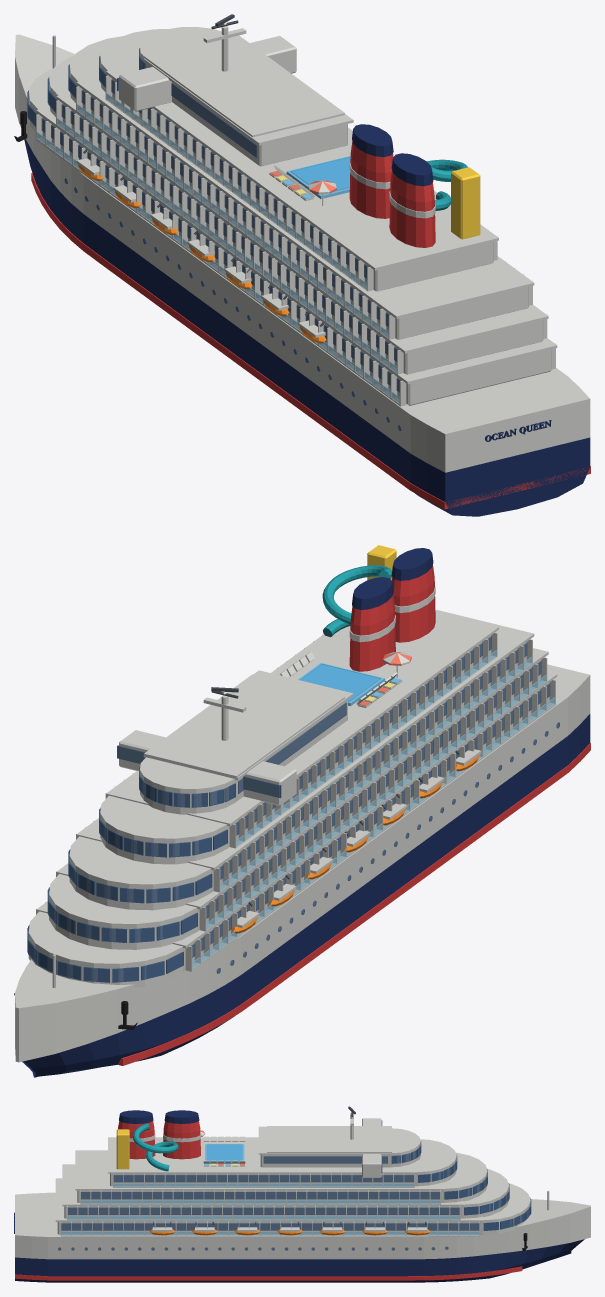
The model's file is CruiseShip.fbx.
3 renders of one model, top to bottom at view 1: azimuth 30°, elevation 25°; view 2: azimuth 150°, elevation 25°; view 3: azimuth 270°, elevation 25°, orthographic. The views are drawn at different scales.
Parts seen in each view (by area): view 1: CruiseShip_White, CruiseShip_Navy, CruiseShip_GlassDark, CruiseShip_Red, CruiseShip_Glass, CruiseShip_Yellow, CruiseShip_SkyBlue, CruiseShip_Water, CruiseShip_Orange, CruiseShip_Teal; view 2: CruiseShip_White, CruiseShip_GlassDark, CruiseShip_Navy, CruiseShip_Glass, CruiseShip_Red, CruiseShip_SkyBlue, CruiseShip_Teal, CruiseShip_Water, CruiseShip_Orange; view 3: CruiseShip_White, CruiseShip_GlassDark, CruiseShip_Navy, CruiseShip_Glass, CruiseShip_Red, CruiseShip_Orange, CruiseShip_Teal, CruiseShip_SkyBlue, CruiseShip_Water, CruiseShip_Yellow.
Part boxes in pixels (left/top/right/bottom): CruiseShip_White: left=15, top=26, right=590, bottom=472; CruiseShip_Navy: left=24, top=124, right=590, bottom=516; CruiseShip_GlassDark: left=27, top=48, right=401, bottom=430; CruiseShip_Red: left=31, top=141, right=590, bottom=509; CruiseShip_Glass: left=36, top=93, right=399, bottom=403; CruiseShip_Yellow: left=451, top=167, right=480, bottom=239; CruiseShip_SkyBlue: left=283, top=156, right=350, bottom=199; CruiseShip_Water: left=290, top=156, right=350, bottom=194; CruiseShip_Orange: left=78, top=164, right=326, bottom=343; CruiseShip_Teal: left=427, top=159, right=467, bottom=210; CruiseShip_White: left=15, top=586, right=590, bottom=1062; CruiseShip_GlassDark: left=27, top=636, right=559, bottom=982; CruiseShip_Navy: left=22, top=548, right=590, bottom=1077; CruiseShip_Glass: left=192, top=650, right=555, bottom=969; CruiseShip_Red: left=118, top=565, right=590, bottom=1065; CruiseShip_SkyBlue: left=298, top=663, right=400, bottom=706; CruiseShip_Teal: left=322, top=565, right=391, bottom=637; CruiseShip_Water: left=299, top=664, right=380, bottom=701; CruiseShip_Orange: left=231, top=754, right=479, bottom=933; CruiseShip_White: left=15, top=1112, right=590, bottom=1259; CruiseShip_GlassDark: left=58, top=1120, right=531, bottom=1250; CruiseShip_Navy: left=14, top=1110, right=584, bottom=1282; CruiseShip_Glass: left=61, top=1183, right=479, bottom=1235; CruiseShip_Red: left=15, top=1121, right=522, bottom=1280; CruiseShip_Orange: left=149, top=1229, right=430, bottom=1235; CruiseShip_Teal: left=133, top=1123, right=178, bottom=1171; CruiseShip_SkyBlue: left=204, top=1144, right=244, bottom=1165; CruiseShip_Water: left=206, top=1144, right=242, bottom=1161; CruiseShip_Yellow: left=116, top=1129, right=129, bottom=1169.
Size of the model in its own units: 34 by 53.5 by 176.
